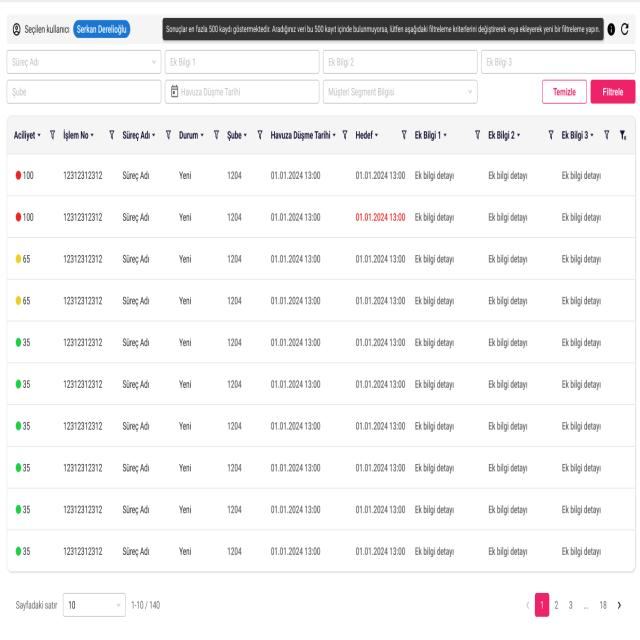QLabel: (76, 24, 128, 36), (24, 24, 70, 36), (602, 86, 624, 98), (553, 87, 576, 97)
VBtn: (542, 78, 588, 105), (590, 78, 636, 105)
VCard: (6, 13, 636, 44)
VChip: (72, 20, 130, 38)
VCombobox: (322, 78, 478, 105), (6, 49, 162, 75)
VDataTable: (5, 112, 638, 626)
VIcon: (620, 22, 630, 36), (12, 22, 21, 37), (607, 22, 615, 36)
VInlineDatepicker: (164, 78, 320, 105)
VTextField: (6, 78, 162, 105), (481, 48, 636, 75), (164, 49, 320, 75), (322, 49, 478, 75)
